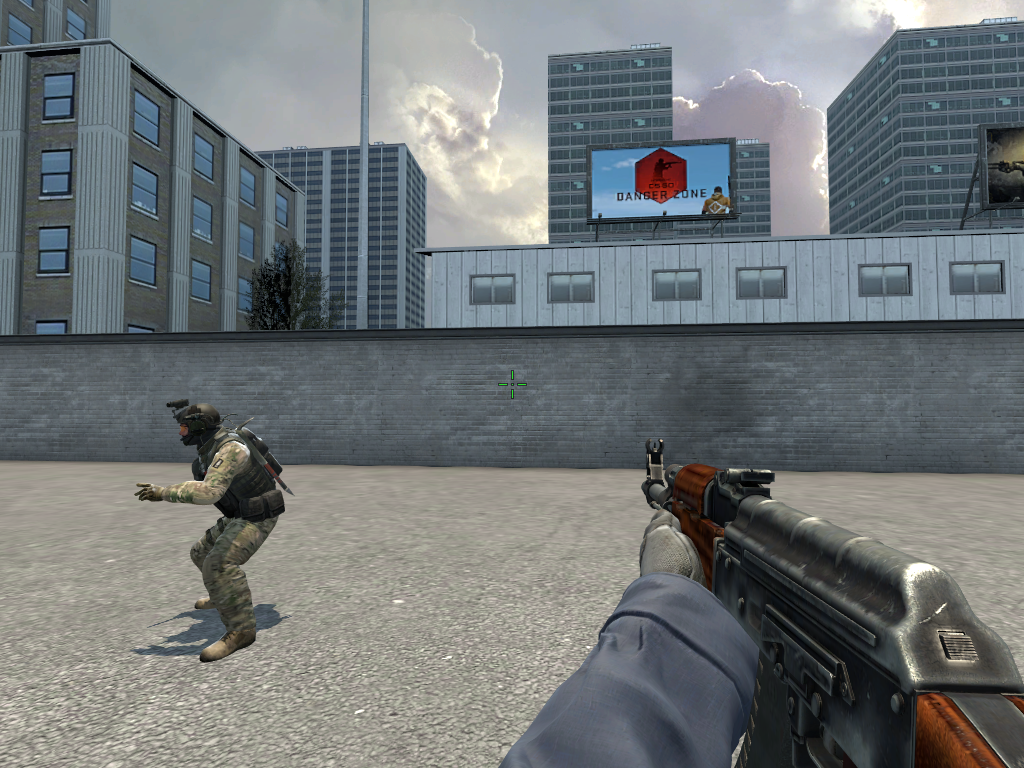ct head: (164, 396, 231, 448)
